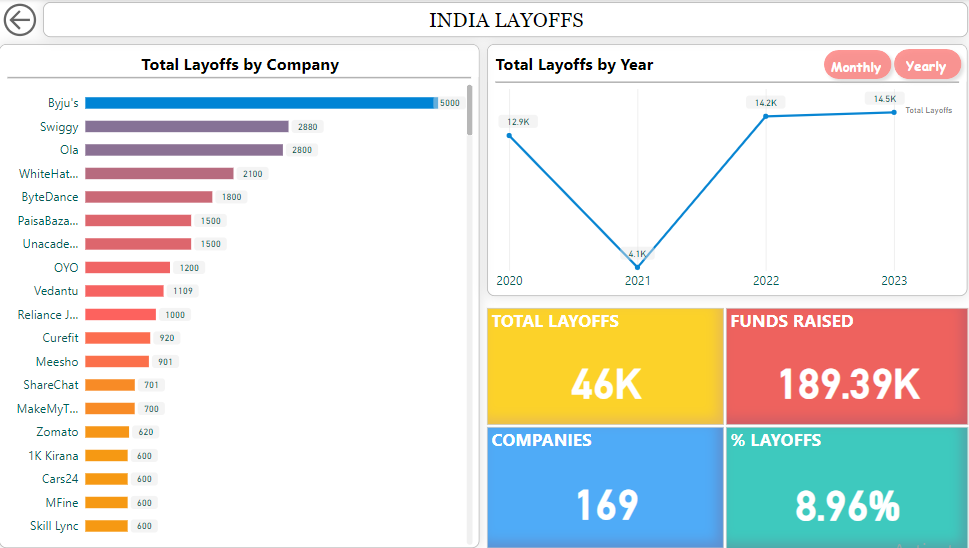

The dashboard page shown, as its layout file describes it:
{"tool":"powerbi","page":{"name":"INDIA","canvas":[1280,720],"ordinal":2},"visuals":[{"type":"lineChart","fields":{"Category":["India.Year"],"Y":["Sum(India.total_laid_off)"]},"box":[639.4,59,629.3,329.8],"z":1000},{"type":"clusteredBarChart","fields":{"Category":["India.company"],"Y":["Sum(India.total_laid_off)"]},"box":[0,59,629.3,659.5],"z":2000},{"type":"actionButton","box":[1162.1,56,106.6,57.6],"z":3000},{"type":"actionButton","box":[1071,58,106.6,56],"z":4000},{"type":"card","title":"FUNDS RAISED","fields":{"Values":["Sum(India.funds_raised)"]},"box":[951.8,405,316.8,152.6],"z":5000},{"type":"card","title":"TOTAL LAYOFFS","fields":{"Values":["Sum(India.total_laid_off)"]},"box":[639.4,405,309.6,152.6],"z":6000},{"type":"card","title":"COMPANIES","fields":{"Values":["Count(India.company)"]},"box":[639.4,560,309.6,159],"z":7000},{"type":"card","title":"% LAYOFFS","fields":{"Values":["Sum(India.% LayOffs)"]},"box":[951.8,560,316.8,160],"z":8000},{"type":"textbox","box":[57.6,4.3,1211,46.1],"z":9000},{"type":"actionButton","box":[0,0,57.6,54.7],"z":10000}]}

Visuals, with their boxes in screenshot pixels (x1, y1, x2, y2), scaled from the page's 1280x720 canvas onto the 969x548 screenshot:
lineChart - India.Year x Sum(India.total_laid_off): l=484, t=45, r=960, b=296
clusteredBarChart - India.company x Sum(India.total_laid_off): l=0, t=45, r=476, b=547
actionButton: l=880, t=43, r=960, b=86
actionButton: l=811, t=44, r=891, b=87
"FUNDS RAISED" card: l=721, t=308, r=960, b=424
"TOTAL LAYOFFS" card: l=484, t=308, r=718, b=424
"COMPANIES" card: l=484, t=426, r=718, b=547
"% LAYOFFS" card: l=721, t=426, r=960, b=547
textbox: l=44, t=3, r=960, b=38
actionButton: l=0, t=0, r=44, b=42
